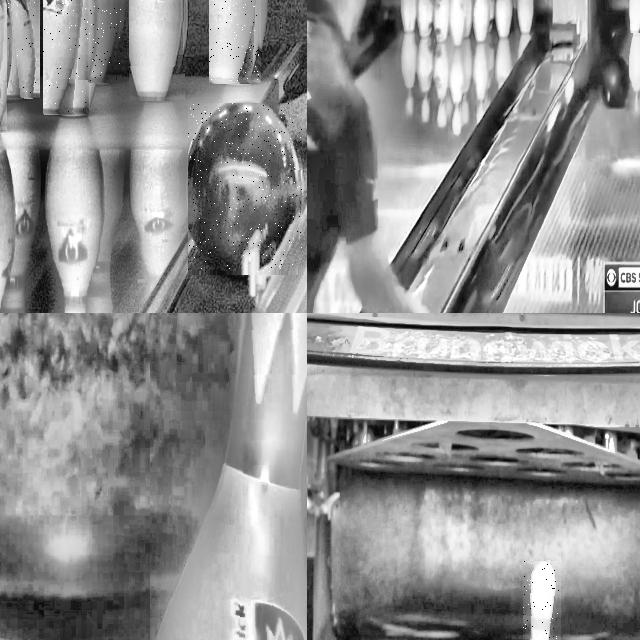bowling-ball: (188, 103, 302, 272)
bowling-pins: (160, 313, 307, 640), (129, 0, 185, 98), (43, 0, 87, 112), (210, 0, 259, 81), (93, 0, 122, 81), (535, 562, 559, 640)
